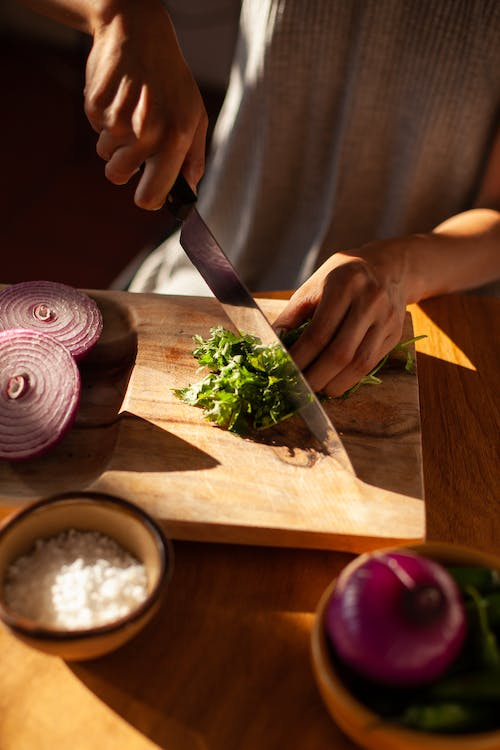knife: (169, 171, 359, 479)
